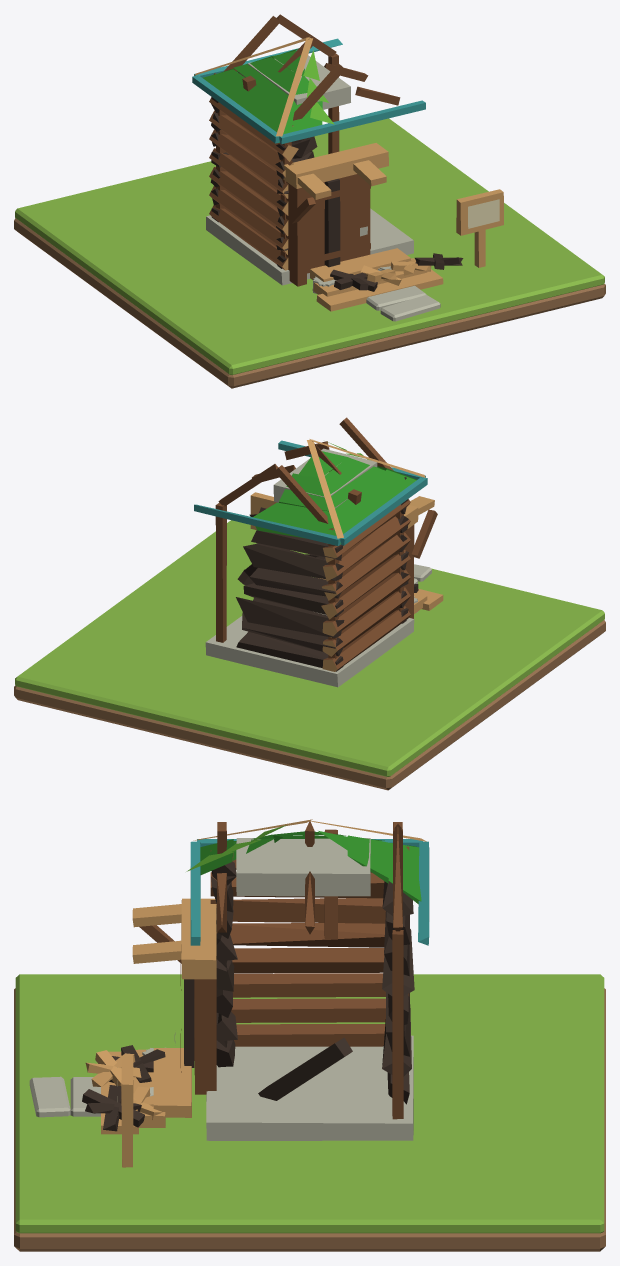
The model's file is town_hall_l02_damaged_LOD2.glb.
3 renders of one model, top to bottom at view 1: azimuth 30°, elevation 25°; view 2: azimuth 150°, elevation 25°; view 3: azimuth 270°, elevation 25°, orthographic. The views are drawn at different scales.
Parts seen in each view (by area): view 1: town_hall_l02_damaged_grass_tile.001, town_hall_l02_damaged_foundation.001, town_hall_l02_damaged_earth_tile.001, town_hall_l02_damaged_path_stone.005, town_hall_l02_damaged_path_stone.004; view 2: town_hall_l02_damaged_grass_tile.001, town_hall_l02_damaged_foundation.001, town_hall_l02_damaged_earth_tile.001; view 3: town_hall_l02_damaged_grass_tile.001, town_hall_l02_damaged_foundation.001, town_hall_l02_damaged_earth_tile.001, town_hall_l02_damaged_path_stone.005, town_hall_l02_damaged_path_stone.004.
Boxes of the visible parts, x1=… form: town_hall_l02_damaged_grass_tile.001: x1=15, y1=118, x2=604, y2=374; town_hall_l02_damaged_foundation.001: x1=192, y1=14, x2=503, y2=311; town_hall_l02_damaged_earth_tile.001: x1=14, y1=218, x2=605, y2=388; town_hall_l02_damaged_path_stone.005: x1=380, y1=295, x2=440, y2=321; town_hall_l02_damaged_path_stone.004: x1=366, y1=285, x2=426, y2=310; town_hall_l02_damaged_grass_tile.001: x1=15, y1=520, x2=604, y2=776; town_hall_l02_damaged_foundation.001: x1=194, y1=417, x2=443, y2=687; town_hall_l02_damaged_earth_tile.001: x1=14, y1=620, x2=605, y2=790; town_hall_l02_damaged_grass_tile.001: x1=15, y1=974, x2=604, y2=1233; town_hall_l02_damaged_foundation.001: x1=82, y1=819, x2=429, y2=1167; town_hall_l02_damaged_earth_tile.001: x1=14, y1=988, x2=605, y2=1251; town_hall_l02_damaged_path_stone.005: x1=29, y1=1076, x2=70, y2=1117; town_hall_l02_damaged_path_stone.004: x1=70, y1=1077, x2=100, y2=1116.
Bounding box in the file's own units: 3.6 × 2.07 × 3.6.
